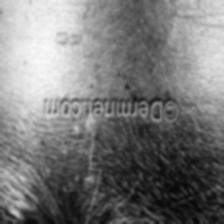Toxin: (46, 30, 86, 54)
